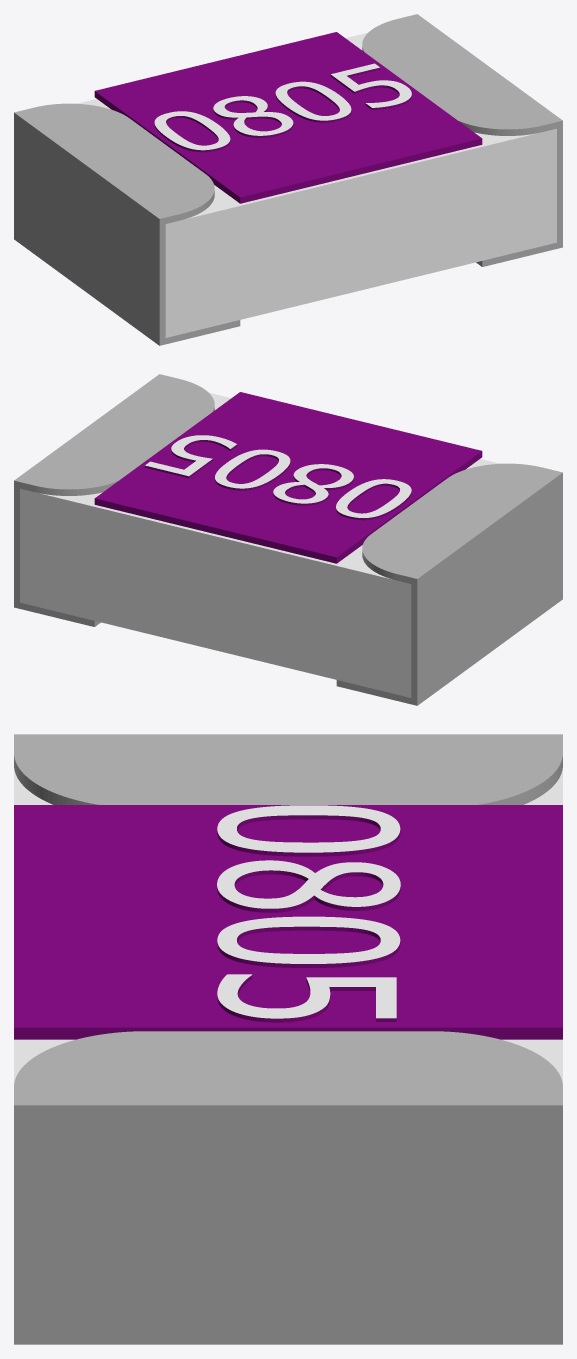
The model's file is res_0805.glb.
3 views of the same model, one above another, from view 1: azimuth 30°, elevation 25°; view 2: azimuth 150°, elevation 25°; view 3: azimuth 270°, elevation 25° (orthographic). The views are drawn at different scales.
Visible parts, largest first — view 1: Node3, Node2, Node1; view 2: Node3, Node2, Node1; view 3: Node2, Node1, Node3.
Part boxes in pixels (x1,y1,x2,y2): Node3: (77,32,556,337); Node2: (14,14,562,345); Node1: (94,32,482,203); Node3: (20,392,499,697); Node2: (14,374,562,705); Node1: (94,392,482,563); Node2: (14,734,562,1344); Node1: (14,805,562,1039); Node3: (14,768,562,1083).
Bounding box in the file's own units: 2 × 0.62 × 1.25.
